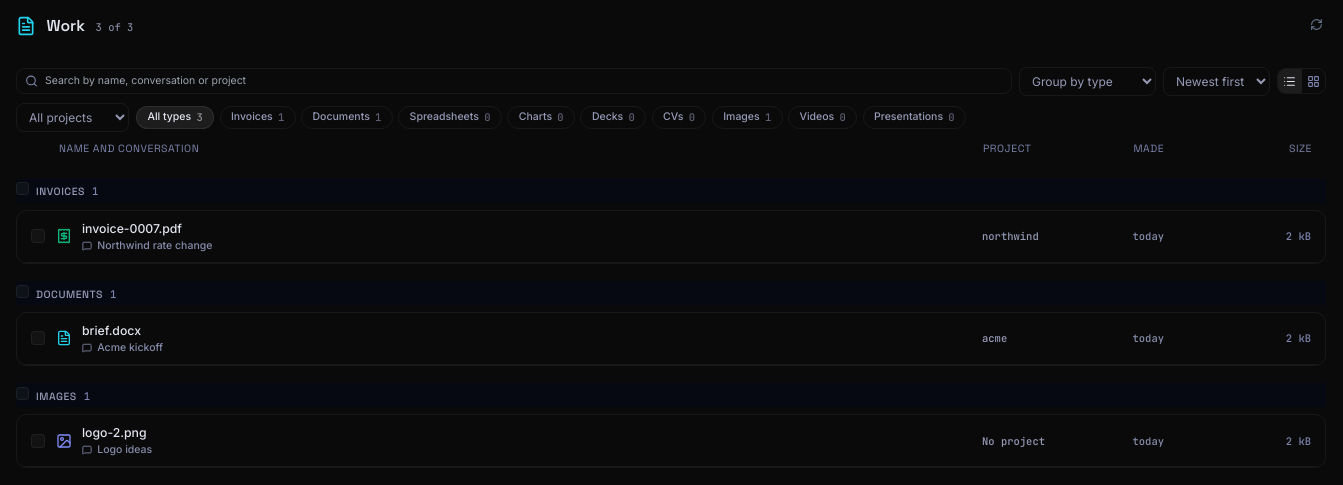
Test case: the toolbar › narrows to one type
Check: the text "invoice-0007.pdf" is shown, box [82,220,182,236]
Click the button "Invoices 1" at (258, 117), box [220,106,296,128]
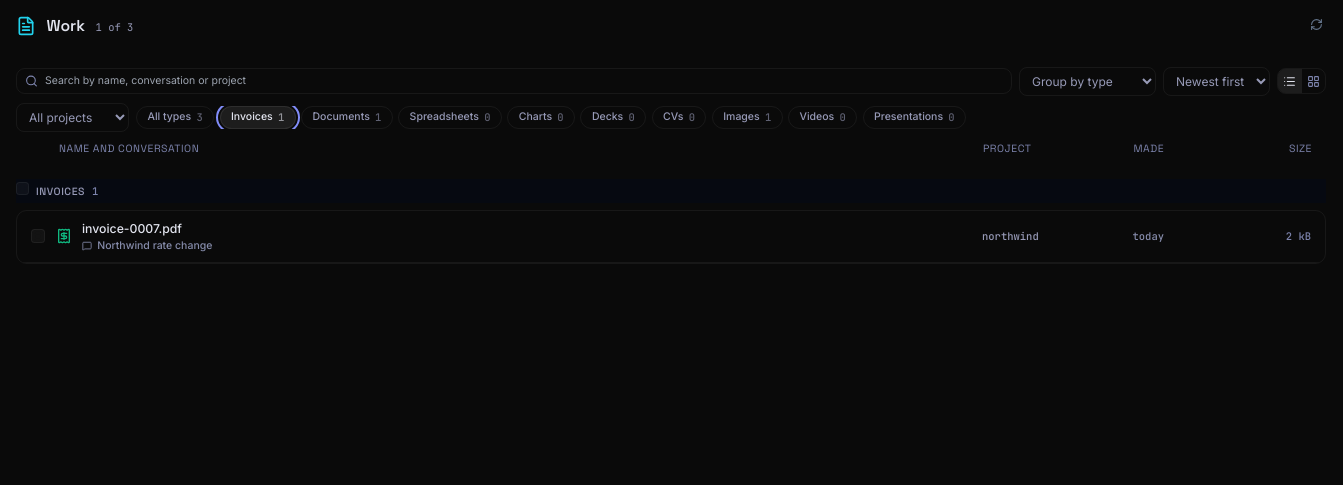
Check: the text "invoice-0007.pdf" is shown, box [82,220,182,236]
Check: the button "brief.docx" is gone
